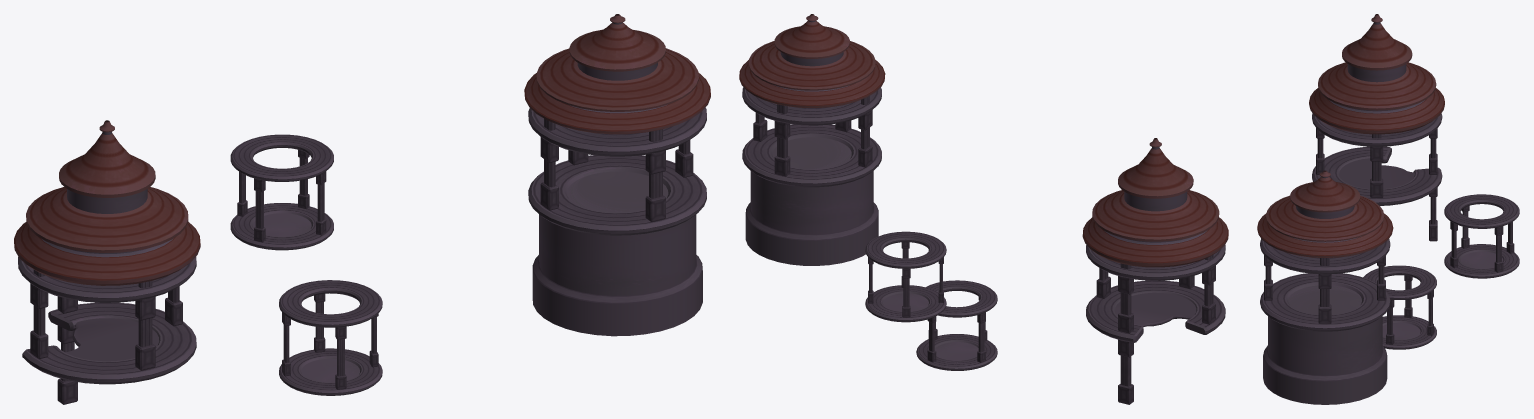
Rendered from Round Temples 2.fbx.
3 views of the same model, side by side, from view 1: azimuth 30°, elevation 25°; view 2: azimuth 150°, elevation 25°; view 3: azimuth 270°, elevation 25° (orthographic). The views are drawn at different scales.
Visible parts, largest first — view 1: Round Temples New; view 2: Round Temples New; view 3: Round Temples New.
Boxes of the visible parts, left/top/right/bottom form: Round Temples New: left=14, top=14, right=710, bottom=404; Round Temples New: left=739, top=14, right=1228, bottom=404; Round Temples New: left=1257, top=14, right=1519, bottom=404.
Bounding box in the file's own units: 5868 × 2990 × 2881.
